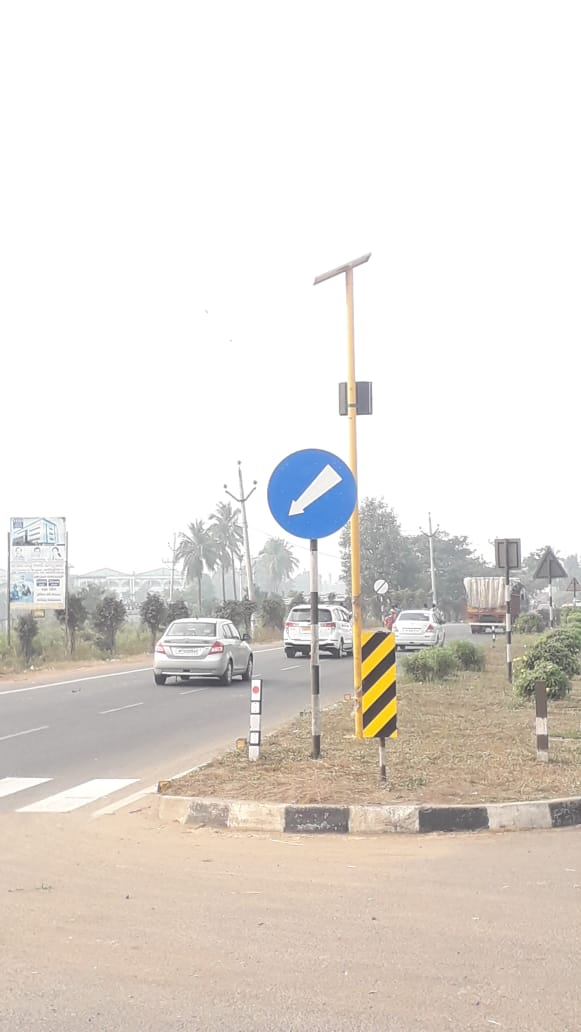go left: (259, 449, 370, 560)
